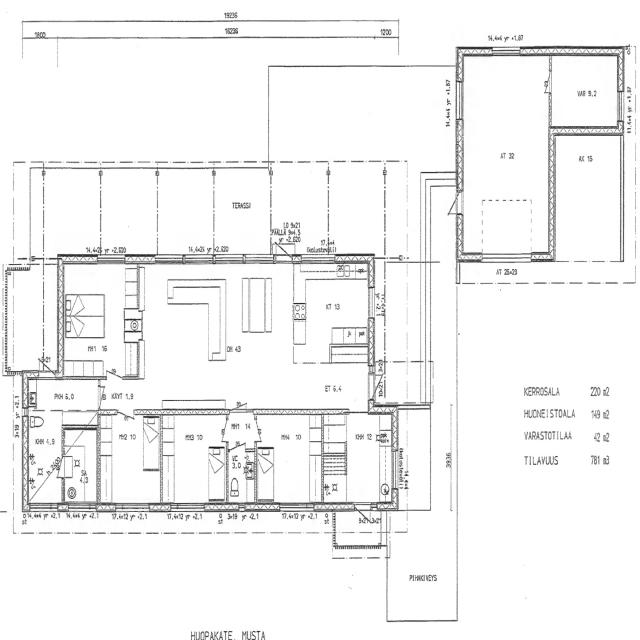door: (368, 375, 393, 400), (439, 191, 464, 213), (354, 503, 371, 535), (276, 232, 292, 264), (39, 348, 55, 379), (117, 409, 134, 437), (533, 71, 551, 93), (230, 427, 245, 452), (211, 419, 228, 441), (98, 387, 115, 408), (254, 421, 271, 442), (107, 356, 122, 379), (47, 457, 64, 477), (345, 425, 358, 440)
